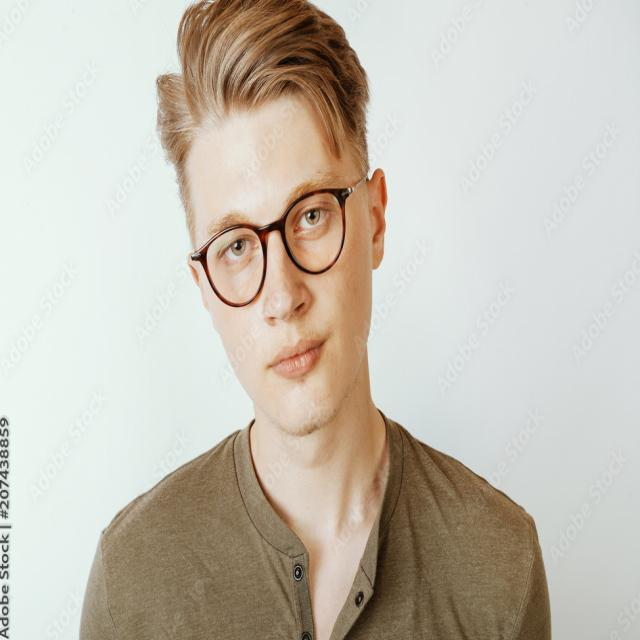Glasses: (191, 165, 373, 313)
